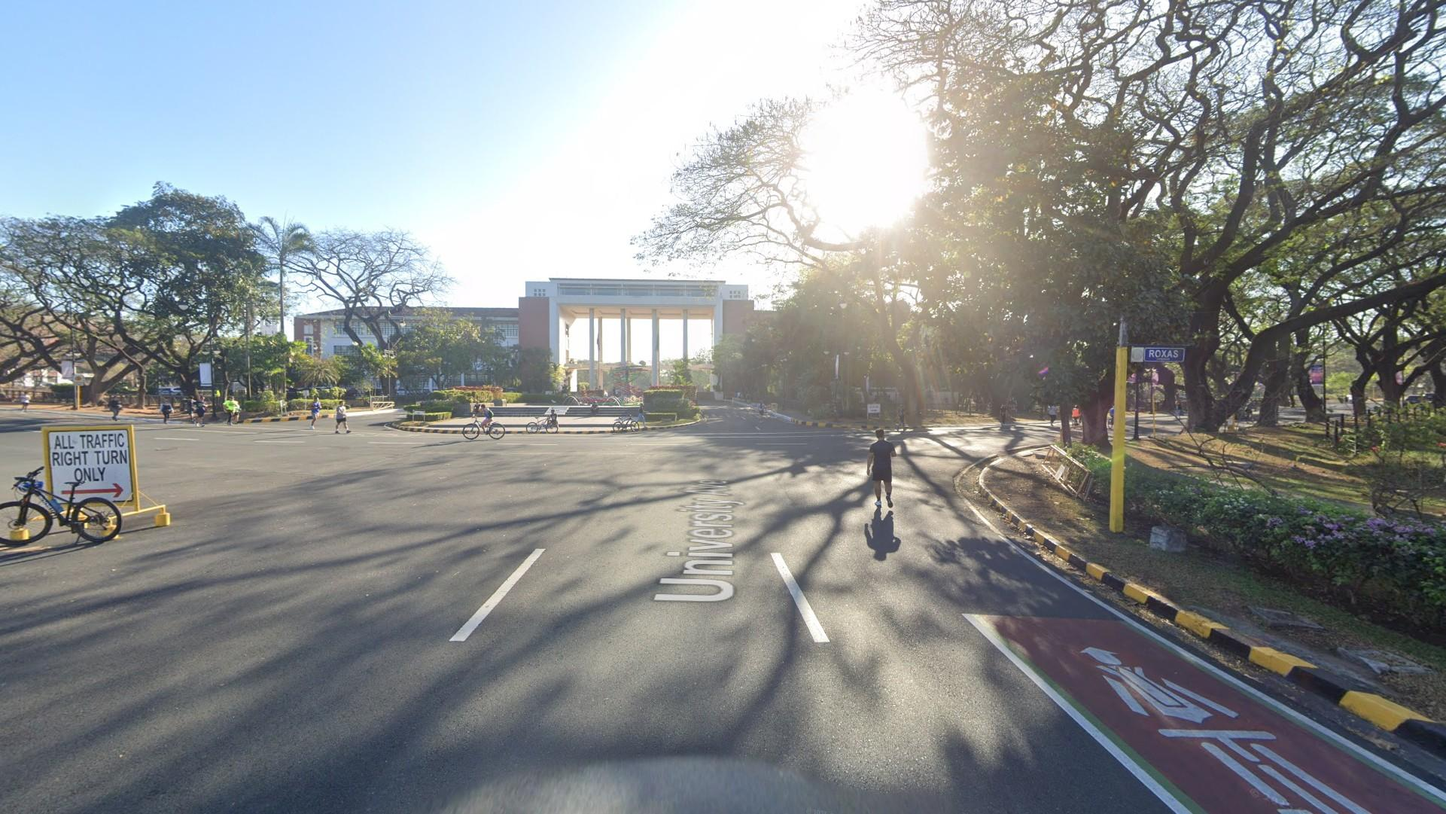cyclist: (462, 404, 505, 440), (1071, 404, 1089, 427), (1108, 405, 1123, 430)
pedestrian: (867, 428, 897, 510), (335, 400, 352, 435), (309, 396, 323, 431), (192, 395, 207, 427), (222, 395, 237, 426), (158, 398, 174, 425), (107, 395, 122, 422), (183, 394, 194, 422), (636, 403, 648, 428), (229, 400, 241, 423), (1048, 402, 1058, 427), (757, 400, 767, 424), (547, 409, 558, 429), (21, 391, 31, 413), (1174, 401, 1181, 420), (590, 401, 599, 415), (746, 391, 751, 404), (737, 391, 741, 402)
